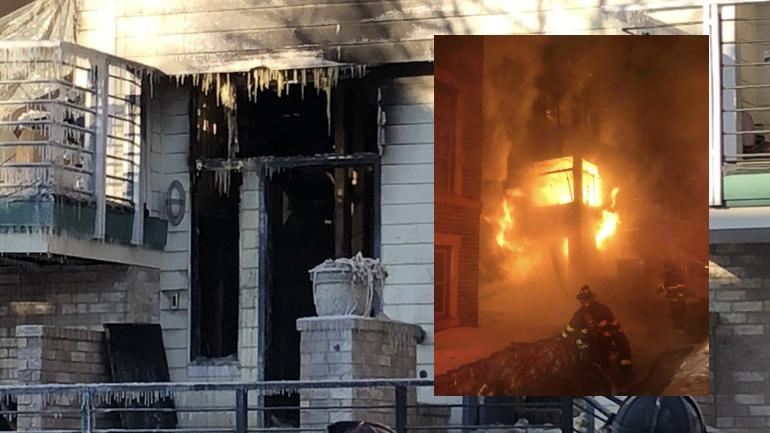Fire: (498, 138, 626, 276)
